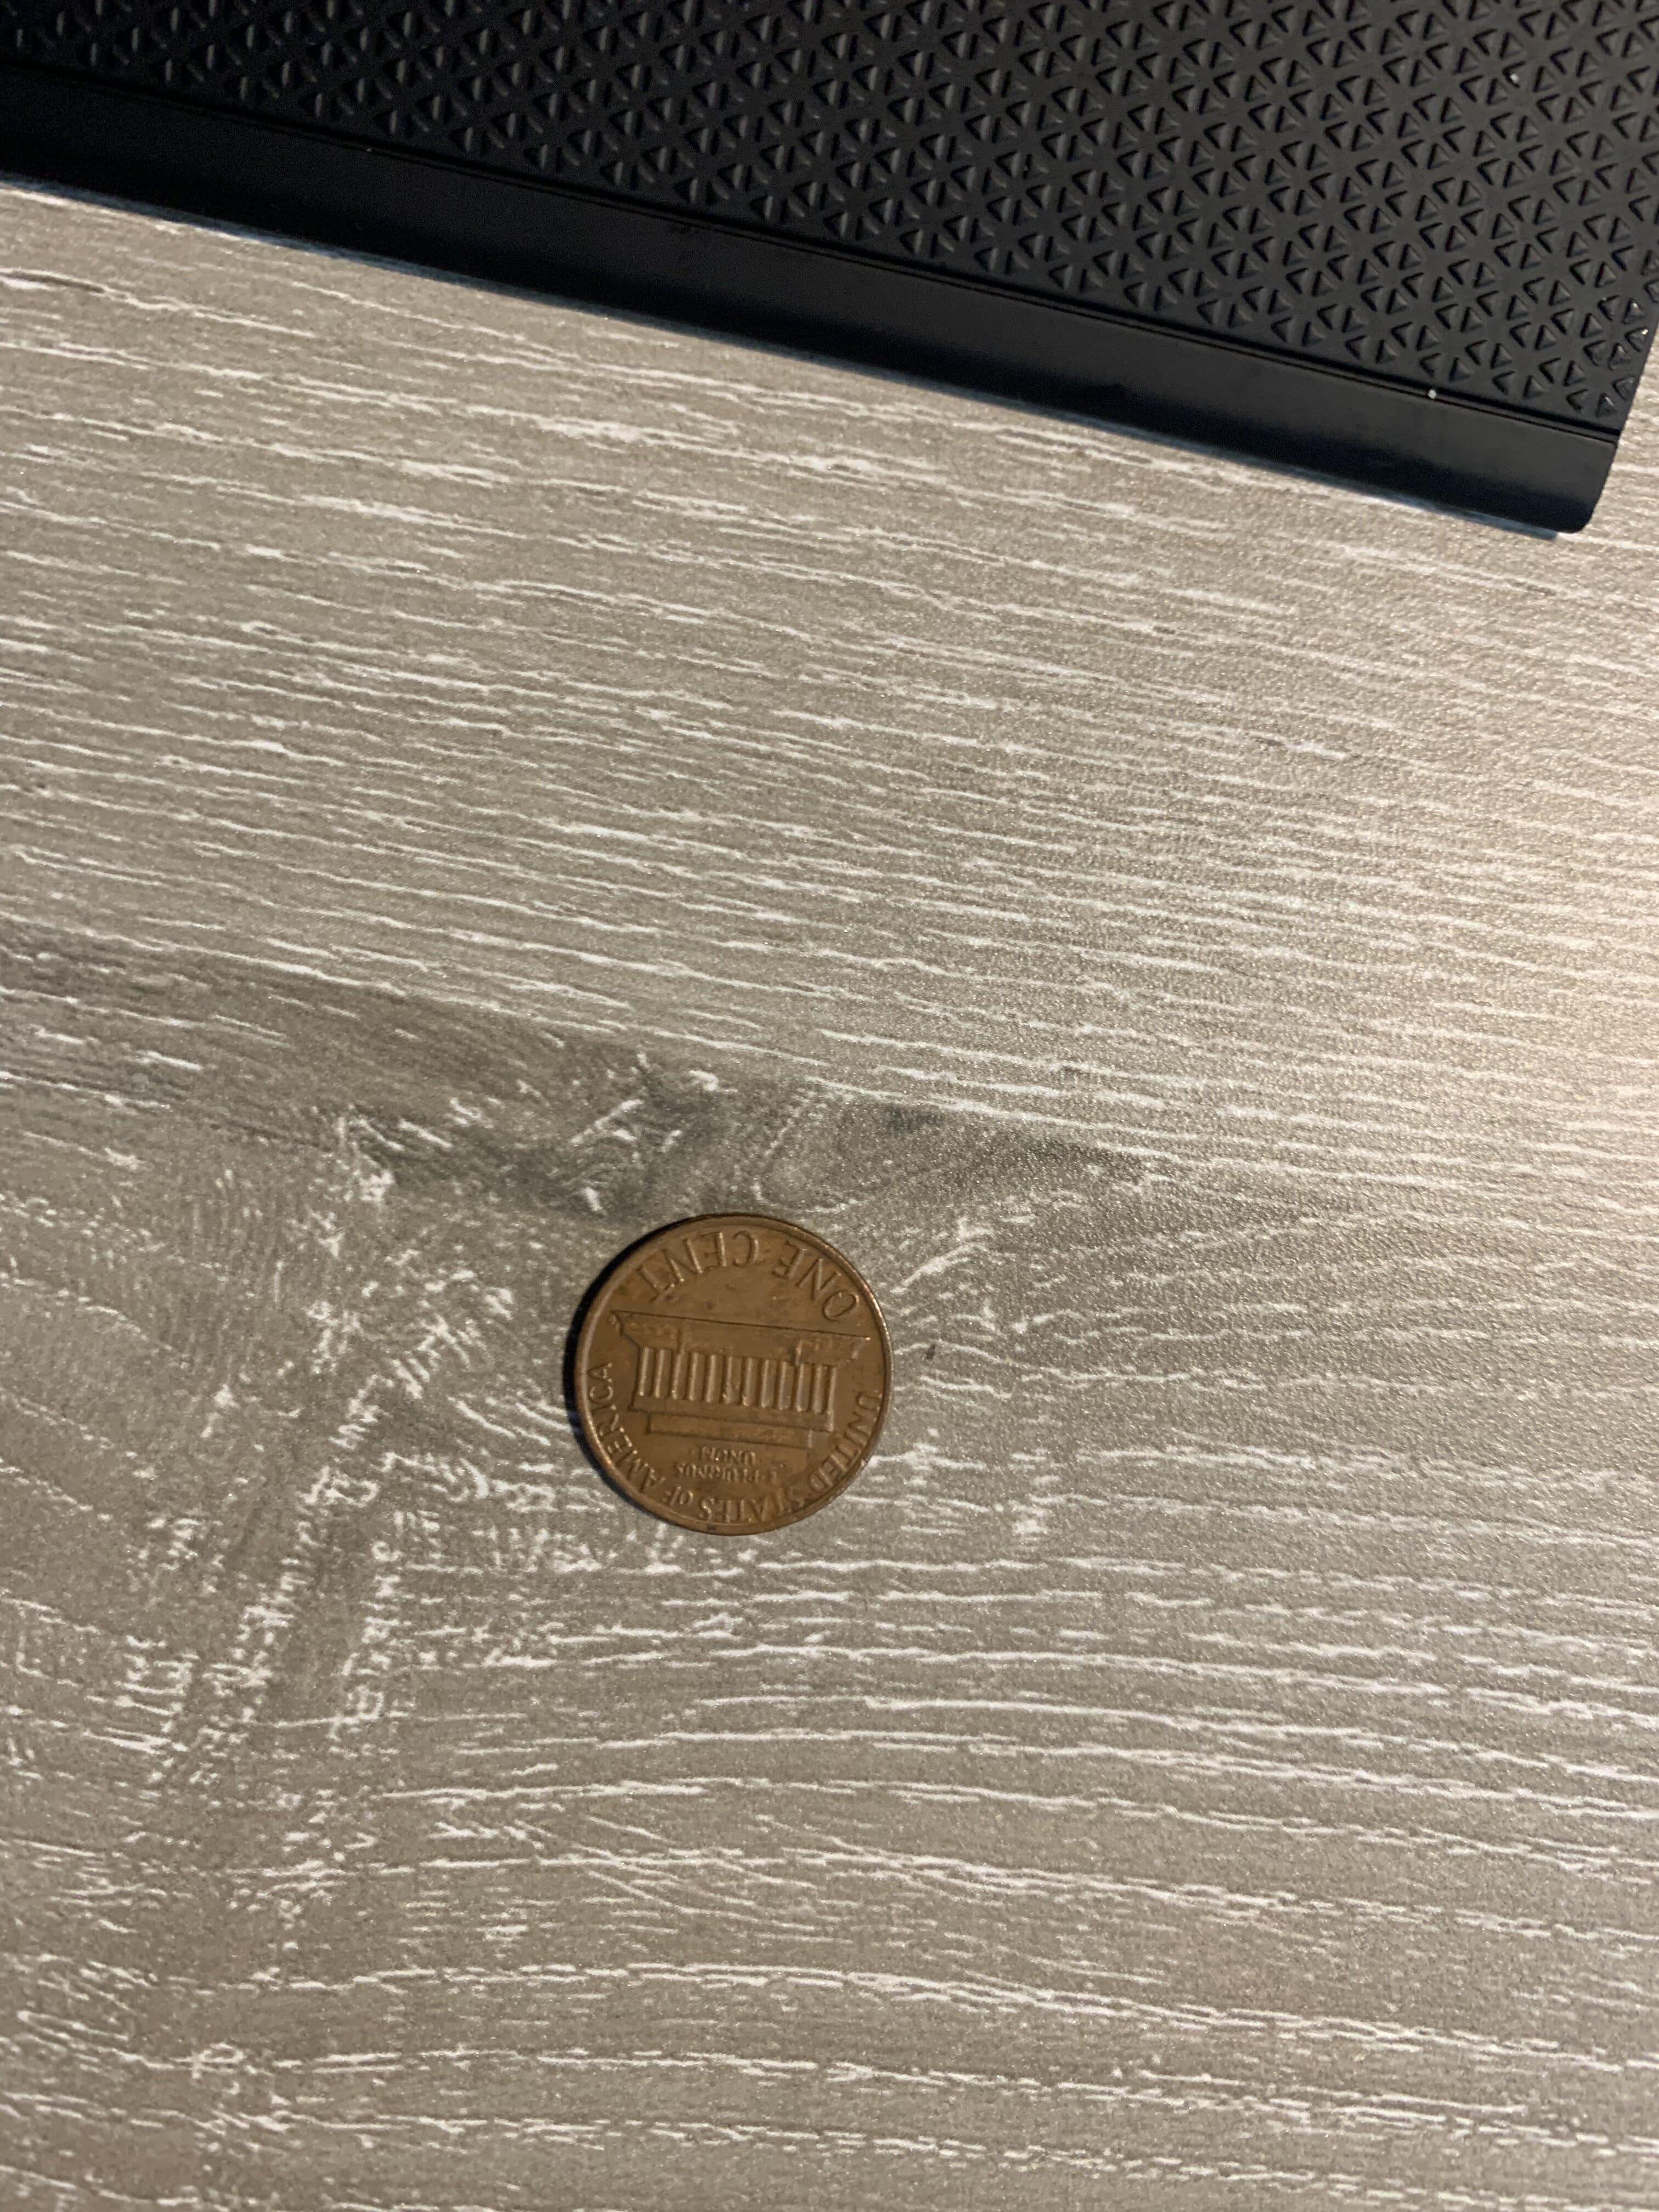Penny: (518, 1195, 934, 1569)
